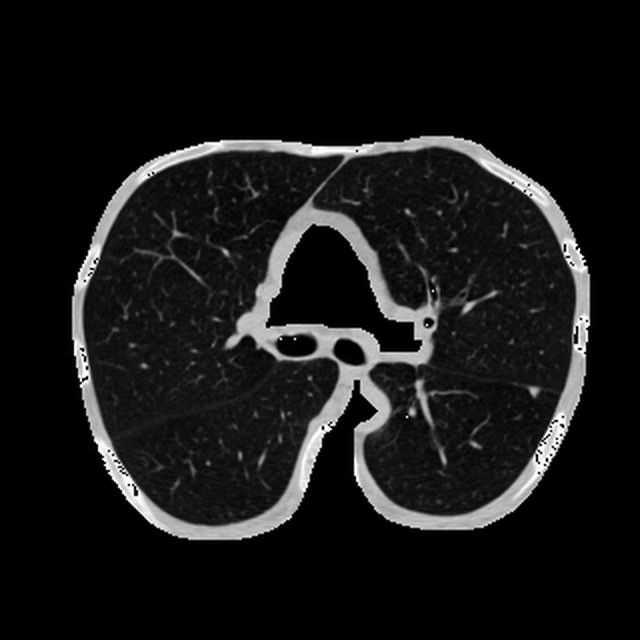PN: (528, 386, 540, 398)
